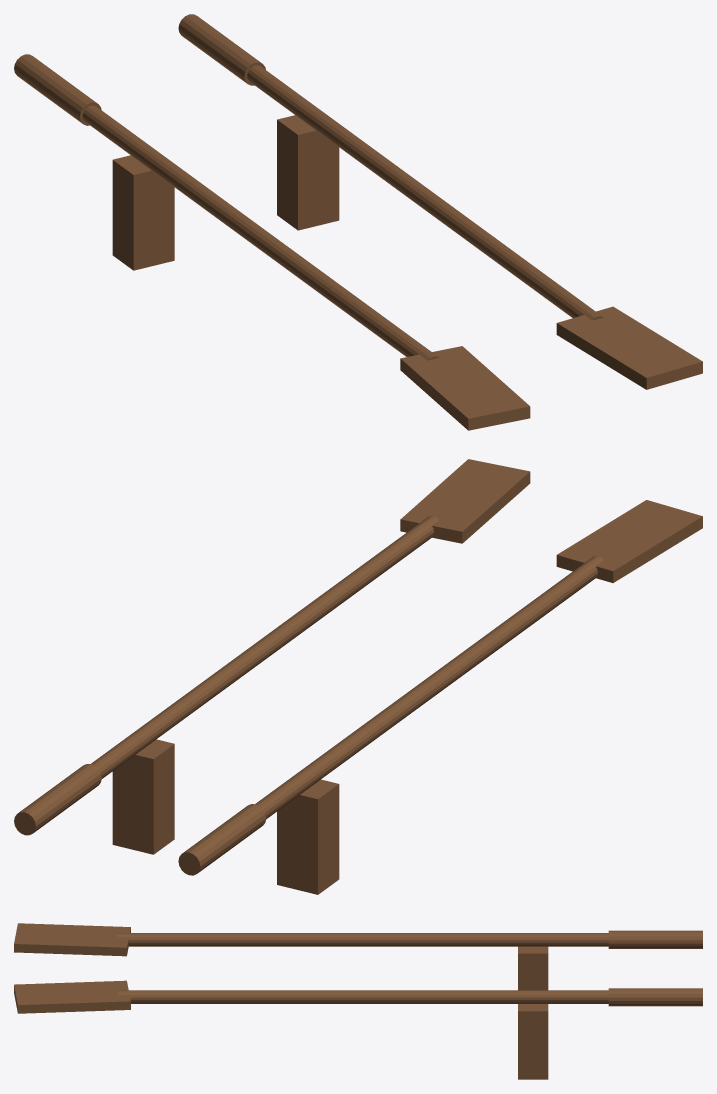
The model's file is SM_Module_OarRack.glb.
The picture shows the model from 3 angles, top to bottom: view 1: azimuth 30°, elevation 25°; view 2: azimuth 150°, elevation 25°; view 3: azimuth 270°, elevation 25°; orthographic projection. The views are drawn at different scales.
Parts seen in each view (by area): view 1: SM_Module_OarRack; view 2: SM_Module_OarRack; view 3: SM_Module_OarRack.
Boxes of the visible parts, x1,y1,x2,y2 form: SM_Module_OarRack: (14, 14, 702, 430); SM_Module_OarRack: (14, 459, 702, 894); SM_Module_OarRack: (14, 923, 702, 1079).
Size of the model in its own units: 0.5136 by 0.244 by 1.82.
